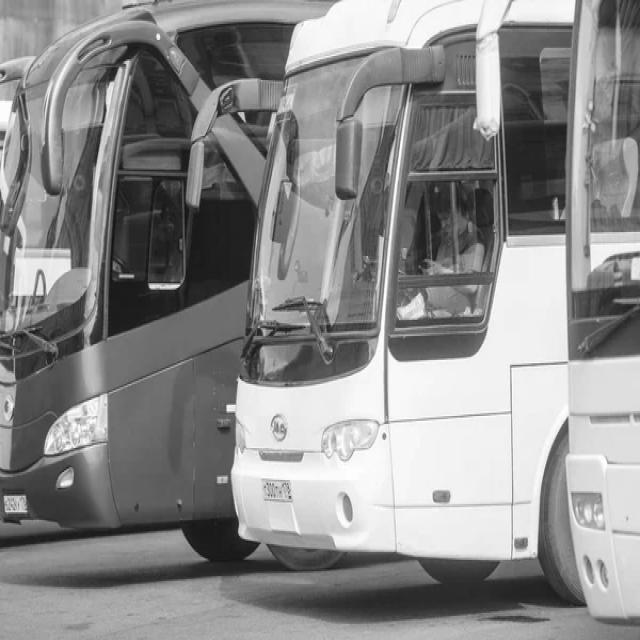Bus: (232, 0, 584, 604), (0, 4, 331, 562), (569, 0, 640, 621)
